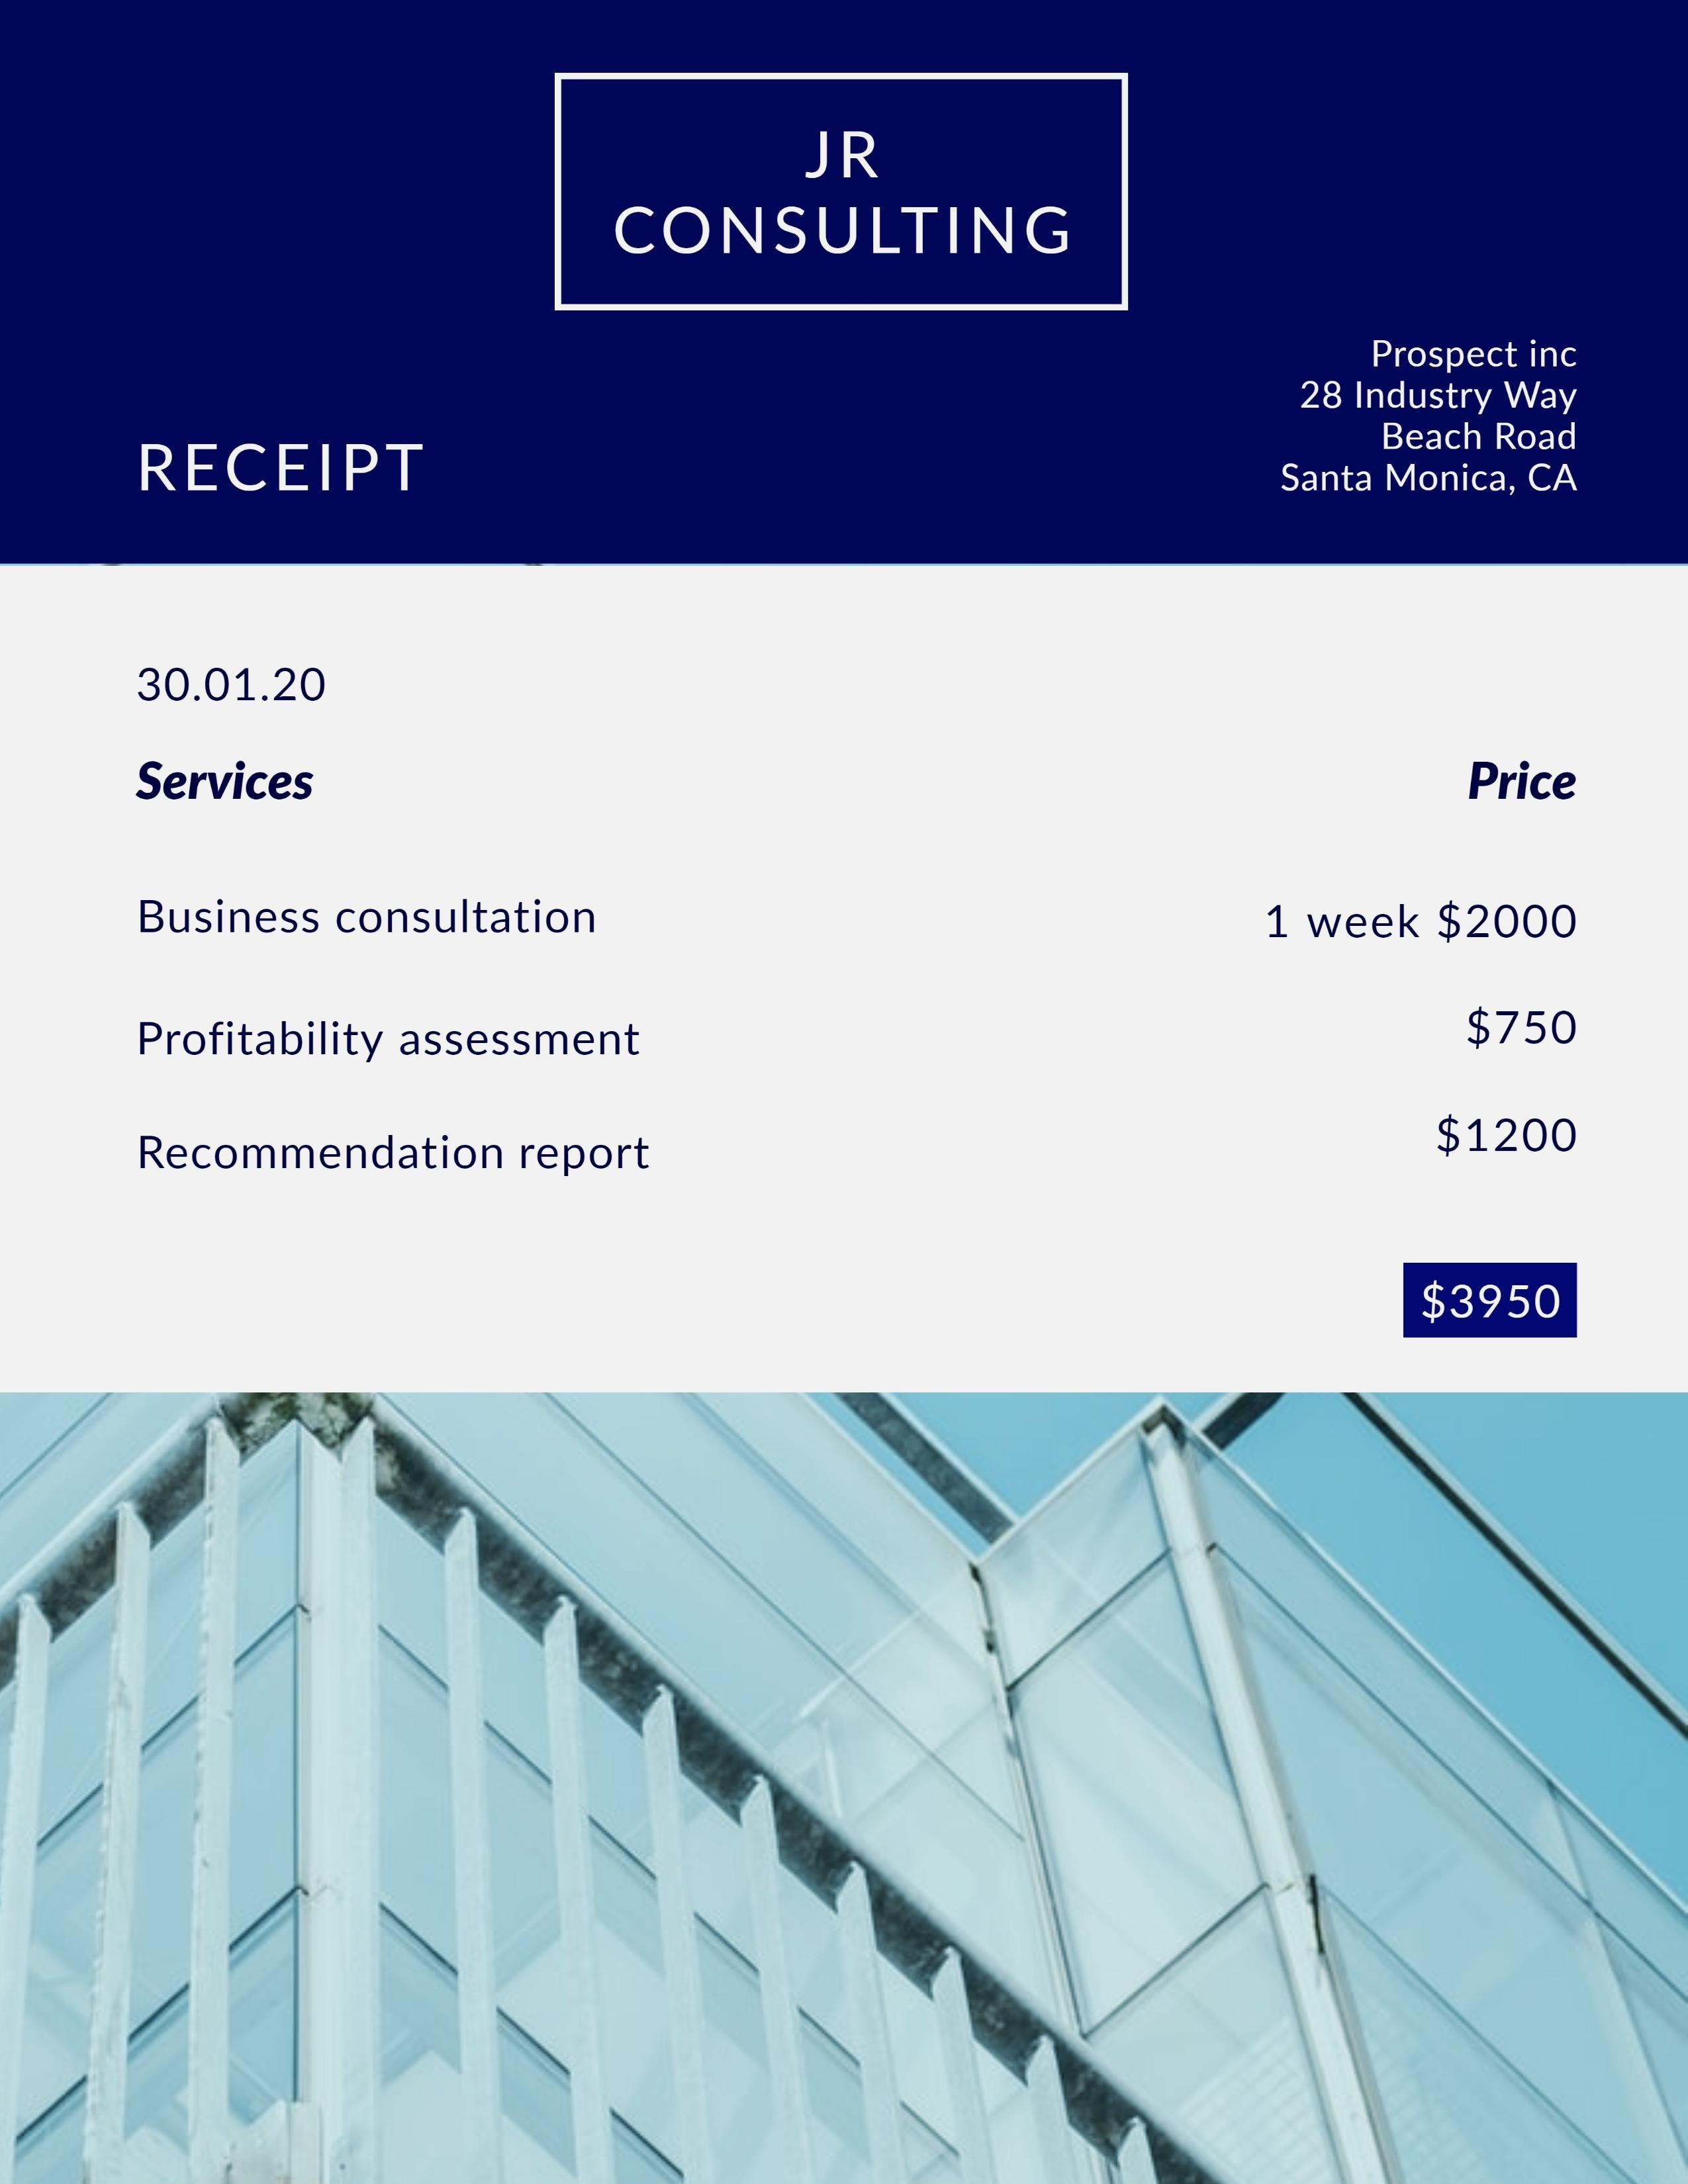ROI: (112, 741, 1599, 1188), (1234, 296, 1590, 503), (1417, 1278, 1562, 1328)
